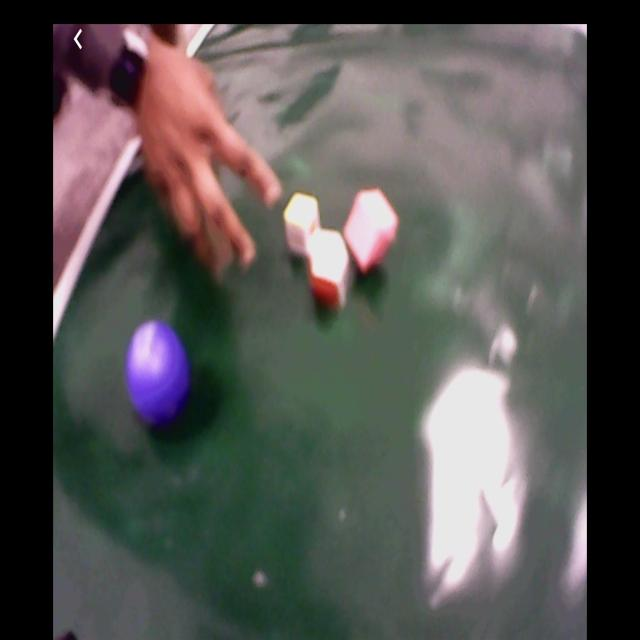ball: (127, 324, 190, 424)
